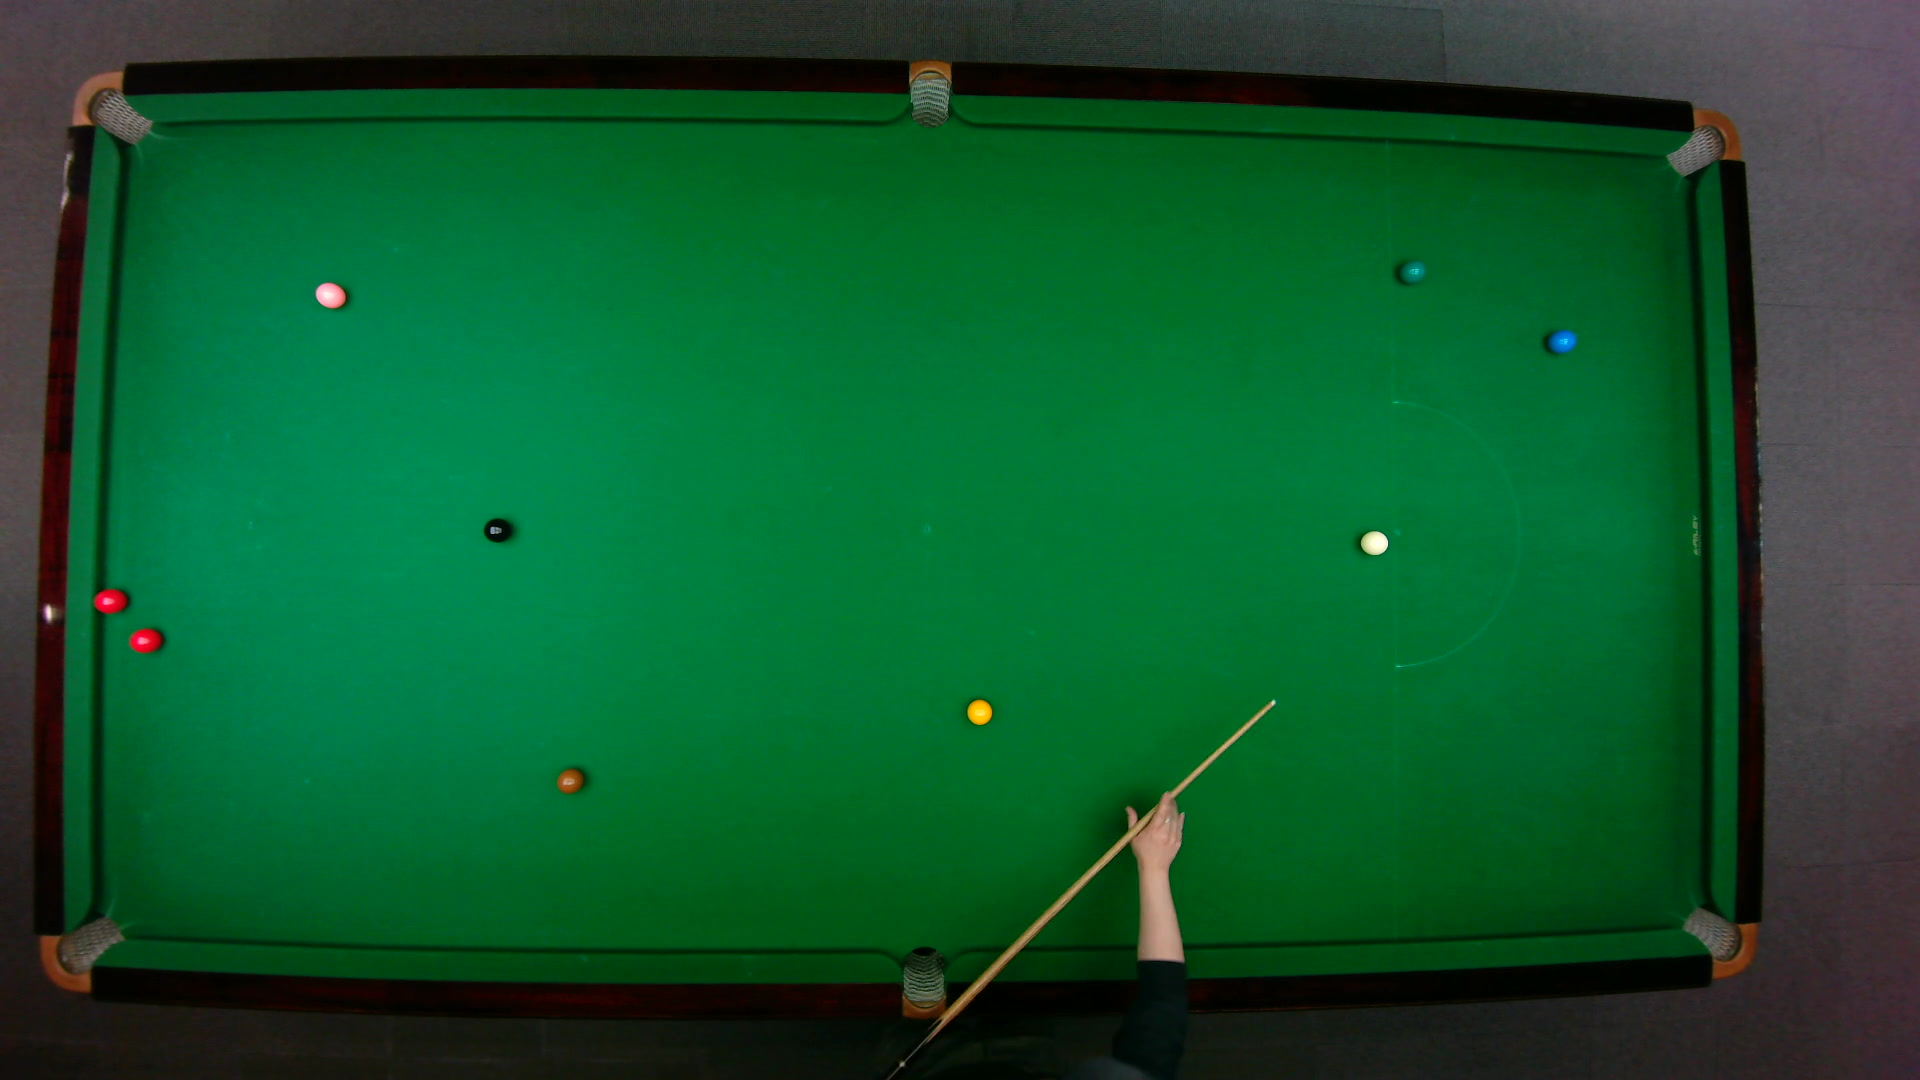bag: (37, 914, 125, 992), (69, 69, 156, 146), (1680, 905, 1760, 980), (1664, 107, 1741, 179), (901, 945, 945, 1022), (909, 58, 953, 131)
black: (483, 516, 513, 545)
blue: (1544, 326, 1578, 356)
brown: (555, 766, 585, 796)
cue: (880, 696, 1279, 1080)
green: (1396, 258, 1428, 285)
pink: (313, 280, 348, 311)
red: (91, 585, 131, 616), (127, 626, 166, 655)
white: (1358, 529, 1390, 556)
yellow: (964, 698, 994, 725)
zone: (1389, 400, 1520, 669)
